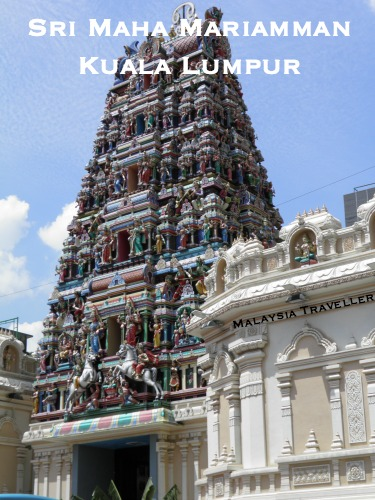Hindu Temple: (56, 10, 277, 438)
